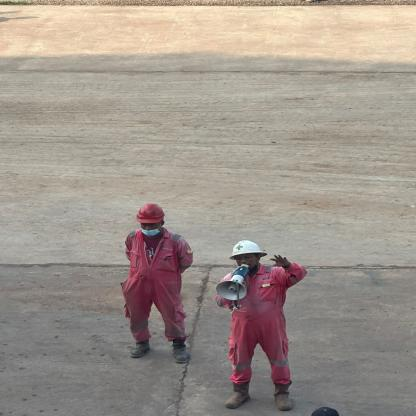bota: (268, 380, 301, 413), (220, 378, 252, 409), (126, 338, 156, 360), (170, 340, 194, 364)
